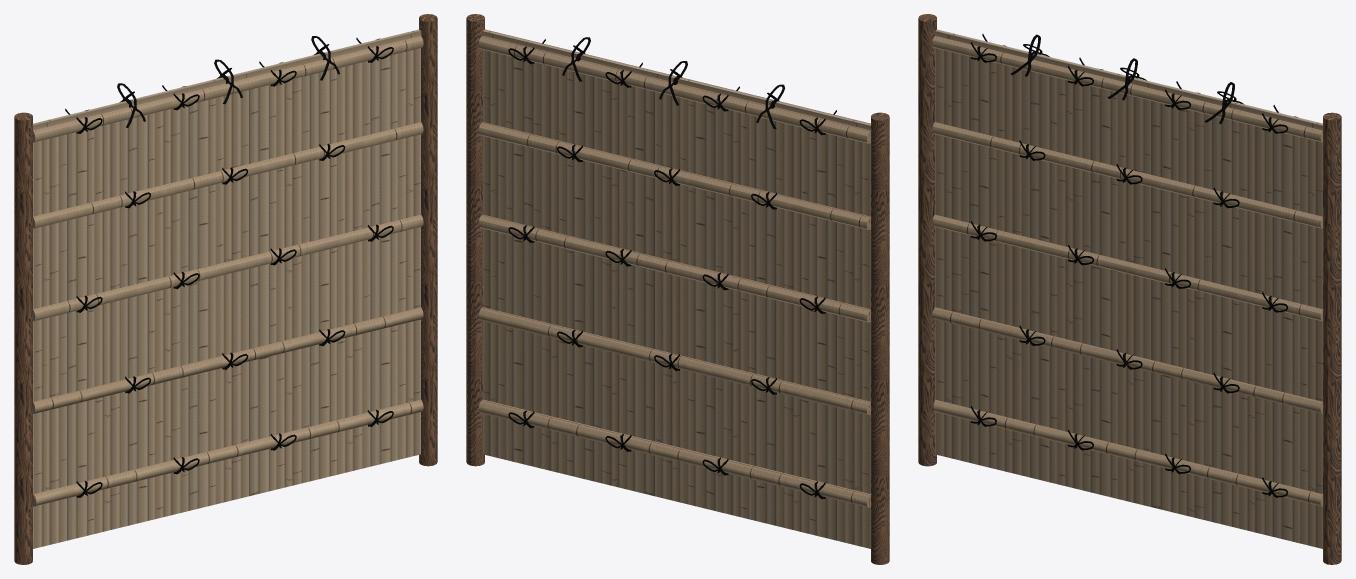
The model's file is e-banboo-kodawari-kenninji_h2000_huru-sarasitake.fbx.
3 views of the same model, side by side, from view 1: azimuth 30°, elevation 25°; view 2: azimuth 150°, elevation 25°; view 3: azimuth 330°, elevation 25° (orthographic).
Parts seen in each view (by area): view 1: e-banboo-kodawari-kenninji_h2000_huru-sarasitake; view 2: e-banboo-kodawari-kenninji_h2000_huru-sarasitake; view 3: e-banboo-kodawari-kenninji_h2000_huru-sarasitake.
Boxes of the visible parts, x1,y1,x2,y2 form: e-banboo-kodawari-kenninji_h2000_huru-sarasitake: [14, 14, 437, 564]; e-banboo-kodawari-kenninji_h2000_huru-sarasitake: [466, 14, 889, 564]; e-banboo-kodawari-kenninji_h2000_huru-sarasitake: [918, 14, 1341, 564].
Bounding box in the file's own units: 208 × 211 × 21.44.
Materials: 4 (4 with a texture image).
